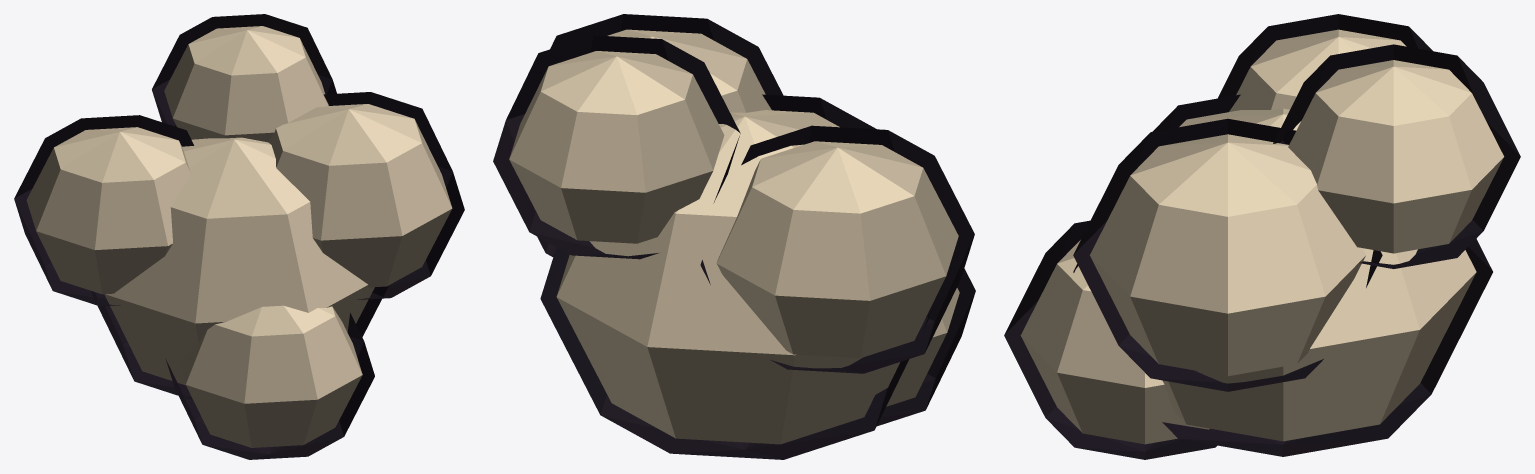
The model's file is Dust_Puff.glb.
The picture shows the model from 3 angles, left to right: view 1: azimuth 30°, elevation 25°; view 2: azimuth 150°, elevation 25°; view 3: azimuth 270°, elevation 25°; orthographic projection. The views are drawn at different scales.
Parts seen in each view (by area): view 1: Dust_Puff; view 2: Dust_Puff; view 3: Dust_Puff.
Boxes of the visible parts, box(x1,y1,x2,y2) form: Dust_Puff: box(14, 14, 464, 459); Dust_Puff: box(493, 14, 975, 459); Dust_Puff: box(1004, 14, 1520, 459).
Size of the model in its own units: 20.7 by 17.85 by 18.7.
1 material, 1 textured.
